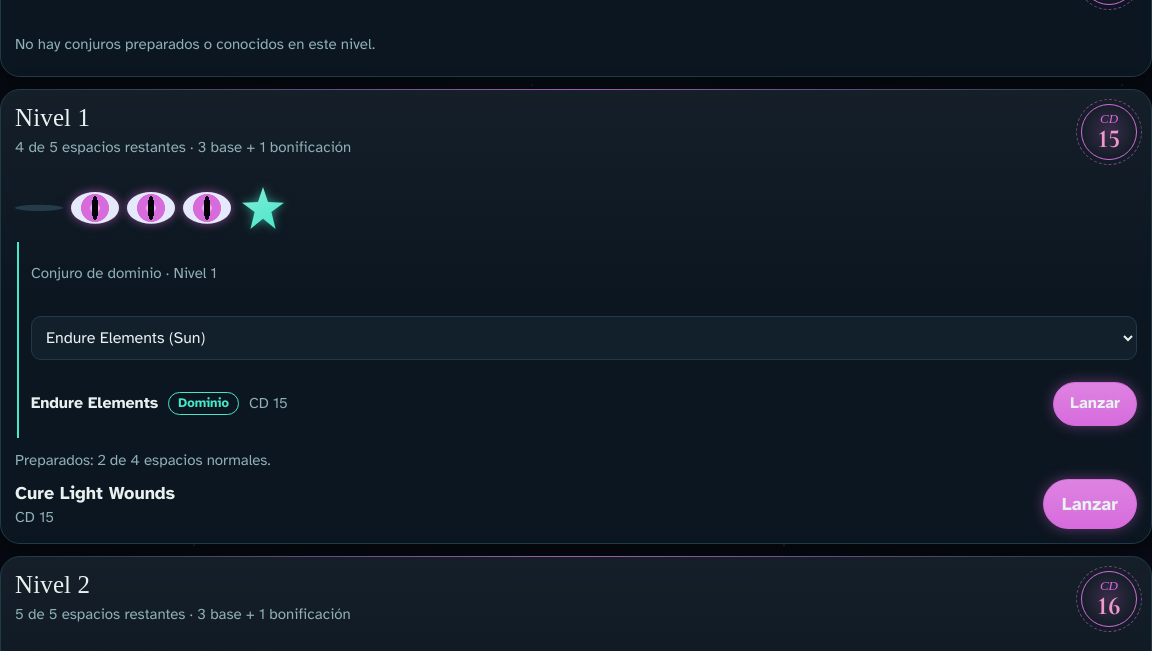
it: CastView › casts the domain spell with the domain slot
(page scrolled)
Select "Burning Hands (Sun)" in the dropdown named "Conjuro de dominio" at (584,338), box 31,316 -> 1137,360
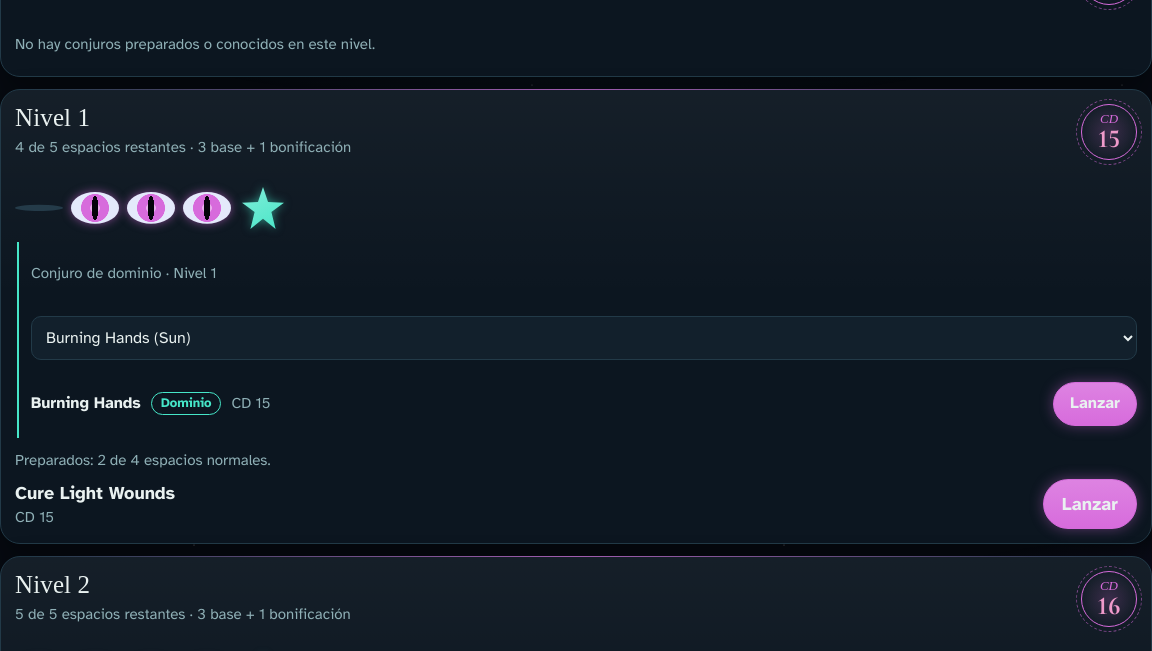
Click the 1st button with class "cast" at (1095,404), box 1053,382 -> 1137,426
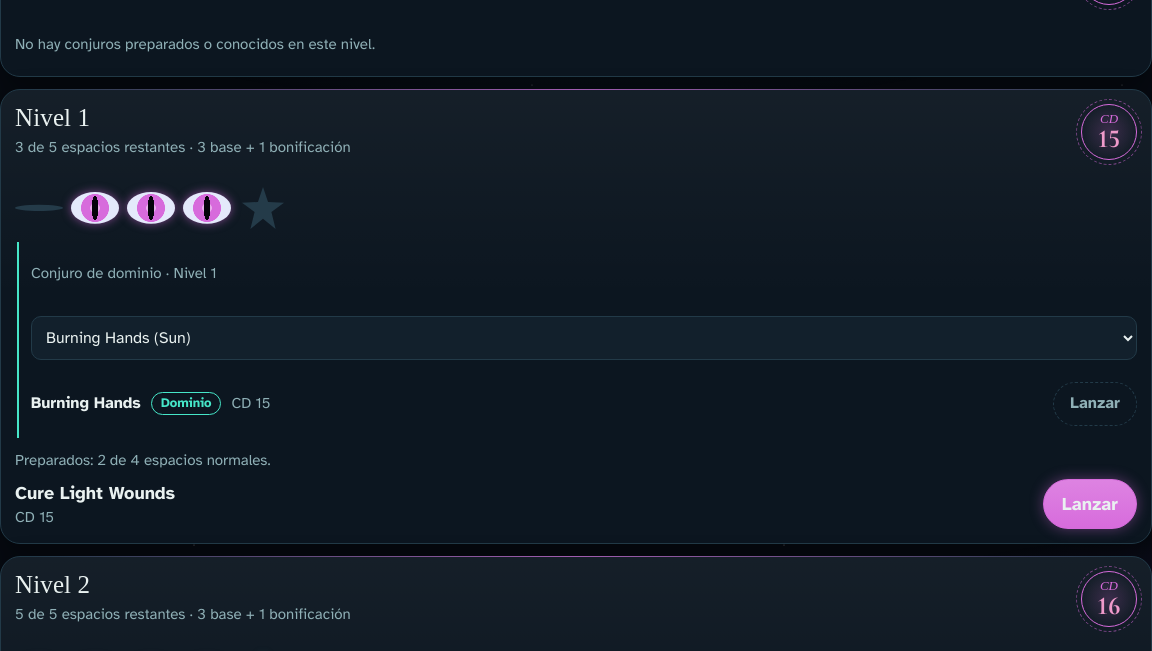
Expected: the 1st button with class "cast" is disabled, 1053,382 -> 1137,426
